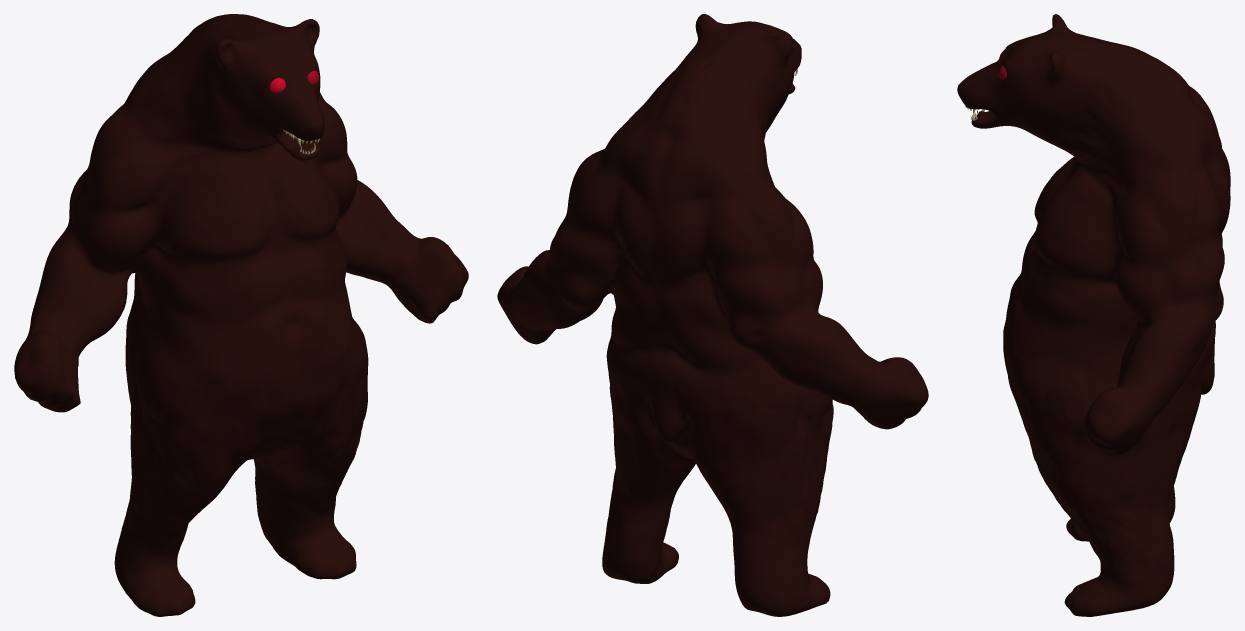
File: Haunted_bear.fbx
3 renders of one model, left to right at view 1: azimuth 30°, elevation 25°; view 2: azimuth 150°, elevation 25°; view 3: azimuth 270°, elevation 25°, orthographic. The views are drawn at different scales.
Parts seen in each view (by area): view 1: 15289_HybridCreature_PolarBear_V1; view 2: 15289_HybridCreature_PolarBear_V1; view 3: 15289_HybridCreature_PolarBear_V1.
Part boxes in pixels (x1,y1,x2,y2): 15289_HybridCreature_PolarBear_V1: (14,14,468,616); 15289_HybridCreature_PolarBear_V1: (497,14,928,616); 15289_HybridCreature_PolarBear_V1: (957,14,1230,616).
Bounding box in the file's own units: 666 × 815 × 375.
